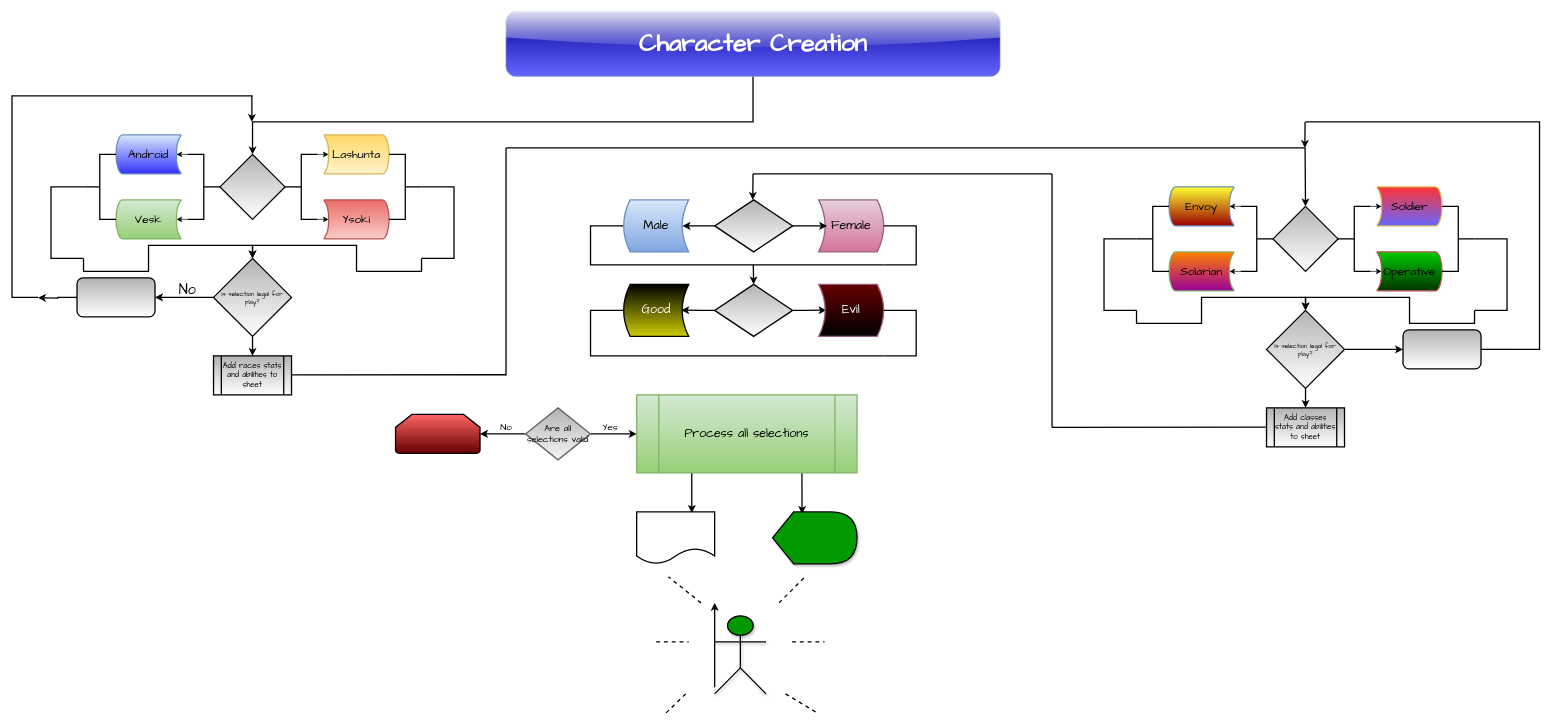
Image size: 1551x726. Some labels were removed from this diagram. Each missing label, with the centre of its shape:
"Actor" belongs at [740,655].
"Avatar" belongs at [815,538].
"Character Sheet" belongs at [675,537].
"Choose Alignment" belongs at [753,310].
"Choose Gender" belongs at [753,225].
"Class" belongs at [1305,238].
"Pick a valid Class" belongs at [1441,349].
"Pick a valid Race" belongs at [115,297].
"Race" belongs at [252,186].
"Restart process till all selections are" belongs at [437,433].
